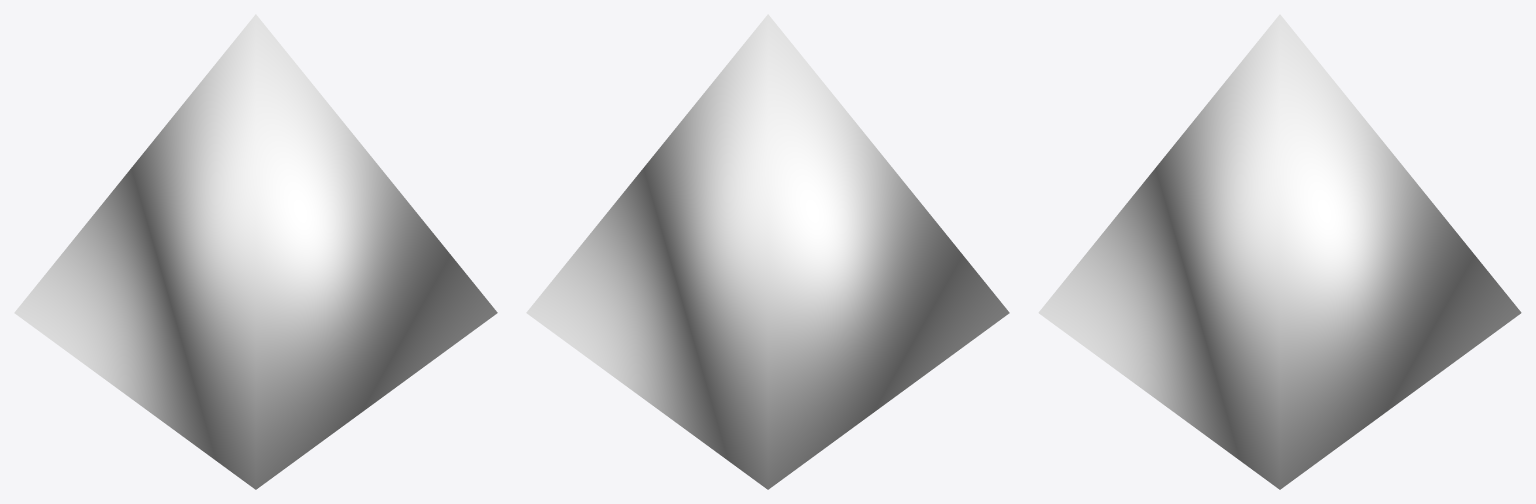
File: dummy.glb
3 renders of one model, left to right at view 1: azimuth 30°, elevation 25°; view 2: azimuth 150°, elevation 25°; view 3: azimuth 270°, elevation 25°, orthographic.
Visible parts, largest first — view 1: tetra1; view 2: tetra1; view 3: tetra1.
Part boxes in pixels (x1=…): tetra1: x1=14, y1=14, x2=497, y2=489; tetra1: x1=526, y1=14, x2=1009, y2=489; tetra1: x1=1038, y1=14, x2=1521, y2=489.
Bounding box in the file's own units: 0.00141 × 0.00133 × 0.00163.
1 material, 1 textured.
